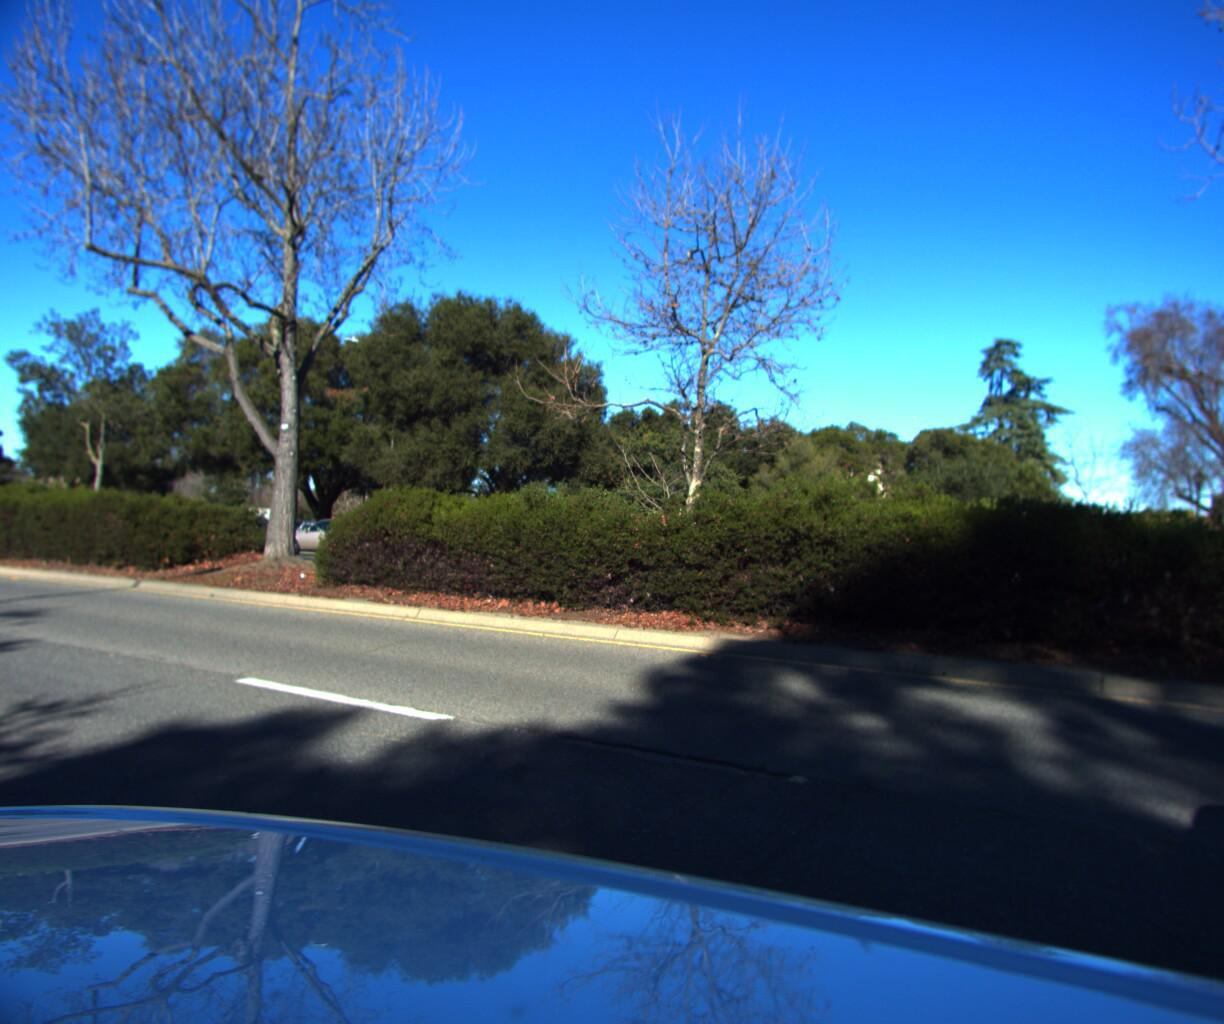car: (264, 521, 402, 565)
